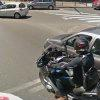Motorcycle: (31, 39, 100, 100)
